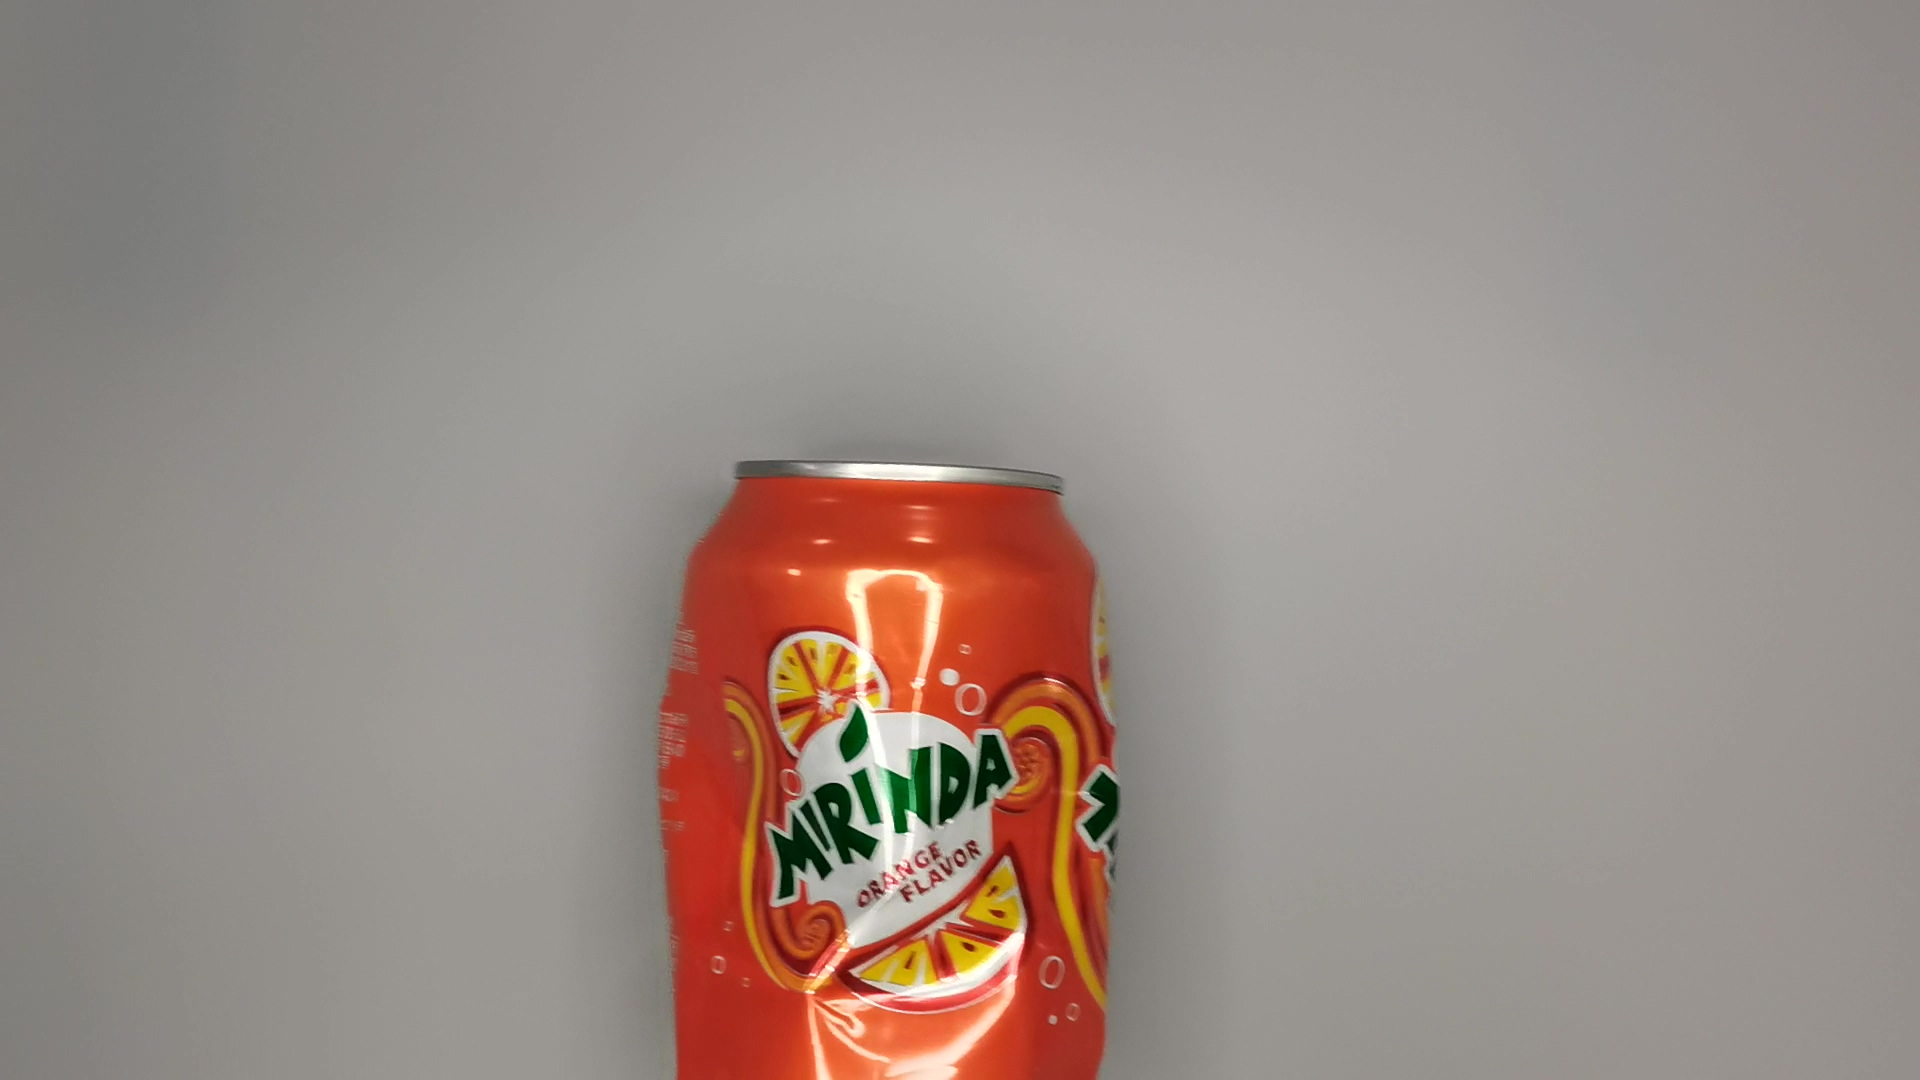can: (641, 435, 1149, 1080)
